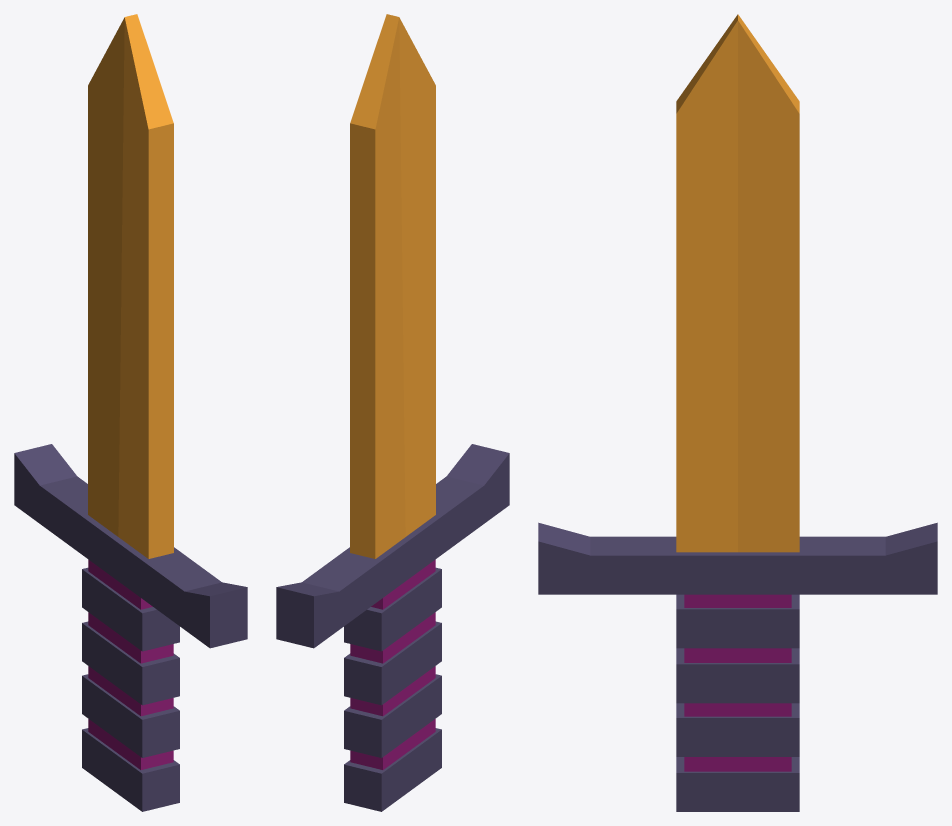
File: goldSword.glb
3 views of the same model, side by side, from view 1: azimuth 30°, elevation 25°; view 2: azimuth 150°, elevation 25°; view 3: azimuth 270°, elevation 25° (orthographic). The views are drawn at different scales.
Parts seen in each view (by area): view 1: Cube.009, Cube.008, Cube.002, Cube.006, Cube.001, Cube.005, Cube, Cube.007, Cube.003, Cube.004; view 2: Cube.009, Cube.008, Cube.002, Cube.006, Cube.001, Cube.005, Cube, Cube.007, Cube.003, Cube.004; view 3: Cube.009, Cube.008, Cube.006, Cube.001, Cube.005, Cube.002, Cube, Cube.007, Cube.003, Cube.004.
Part boxes in pixels (x1,y1,x2,y2): Cube.009: (88,14,173,558); Cube.008: (14,444,247,648); Cube.002: (82,674,179,757); Cube.006: (82,621,179,705); Cube.001: (82,728,179,811); Cube.005: (82,567,179,651); Cube: (88,719,173,769); Cube.007: (88,612,173,663); Cube.003: (88,666,173,716); Cube.004: (88,559,152,609); Cube.009: (350,14,435,558); Cube.008: (276,444,509,648); Cube.002: (344,674,441,757); Cube.006: (344,621,441,705); Cube.001: (344,728,441,811); Cube.005: (344,567,441,651); Cube: (350,719,435,769); Cube.007: (350,612,435,663); Cube.003: (350,666,435,716); Cube.004: (371,559,435,609); Cube.009: (676,14,799,552); Cube.008: (538,522,937,594); Cube.006: (676,648,799,703); Cube.001: (676,757,799,811); Cube.005: (676,594,799,648); Cube.002: (676,703,799,756); Cube: (684,757,791,771); Cube.007: (684,648,791,662); Cube.003: (684,703,791,716); Cube.004: (684,594,791,607).
Size of the model in its own units: 0.7177 by 14.01 by 6.46.
Materials: 1 (1 with a texture image).
